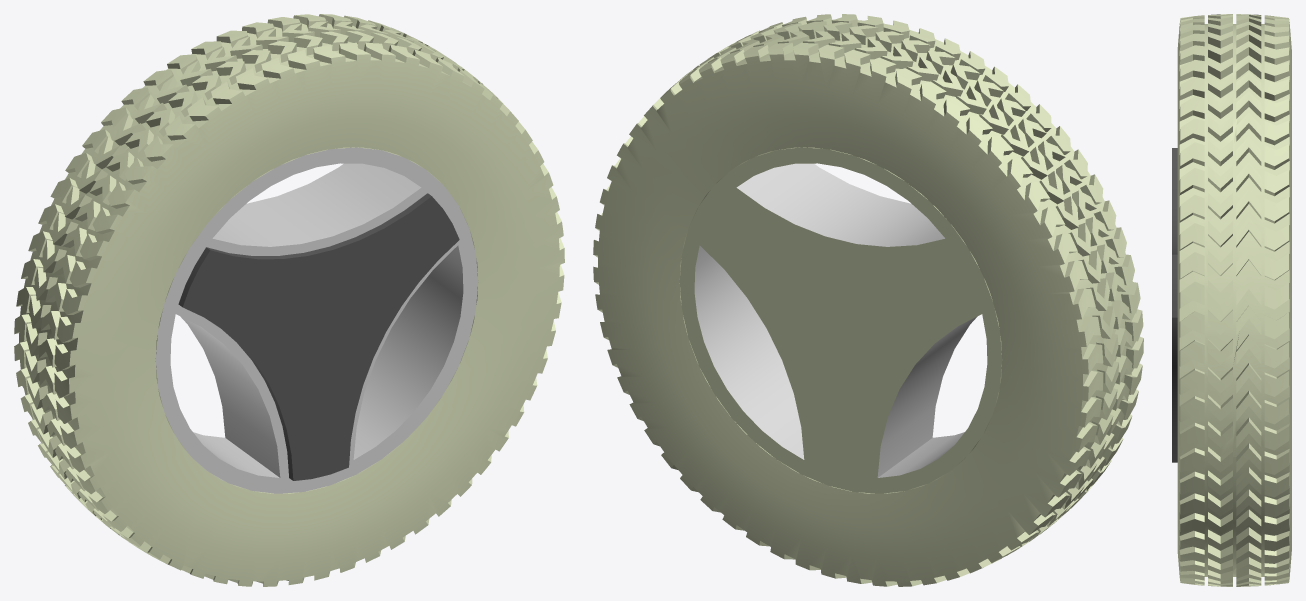
Rendered from wheel_link.dae.
3 renders of one model, left to right at view 1: azimuth 30°, elevation 25°; view 2: azimuth 150°, elevation 25°; view 3: azimuth 270°, elevation 25°, orthographic.
Visible parts, largest first — view 1: node; view 2: node; view 3: node.
Boxes of the visible parts, box(x1,y1,x2,y2) form: node: box(14, 14, 564, 586); node: box(593, 14, 1143, 586); node: box(1172, 14, 1291, 586).
Size of the model in its own units: 0.3429 by 0.0717 by 0.3429.
